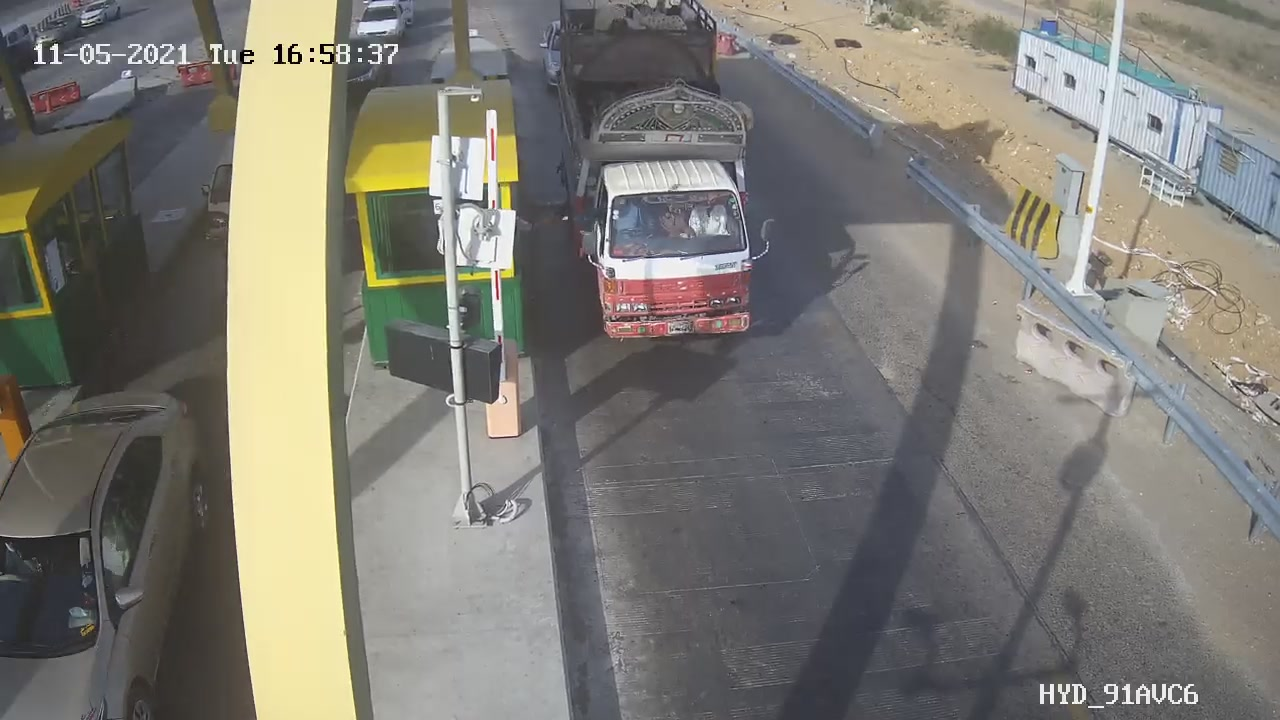F5: (543, 1, 791, 366)
